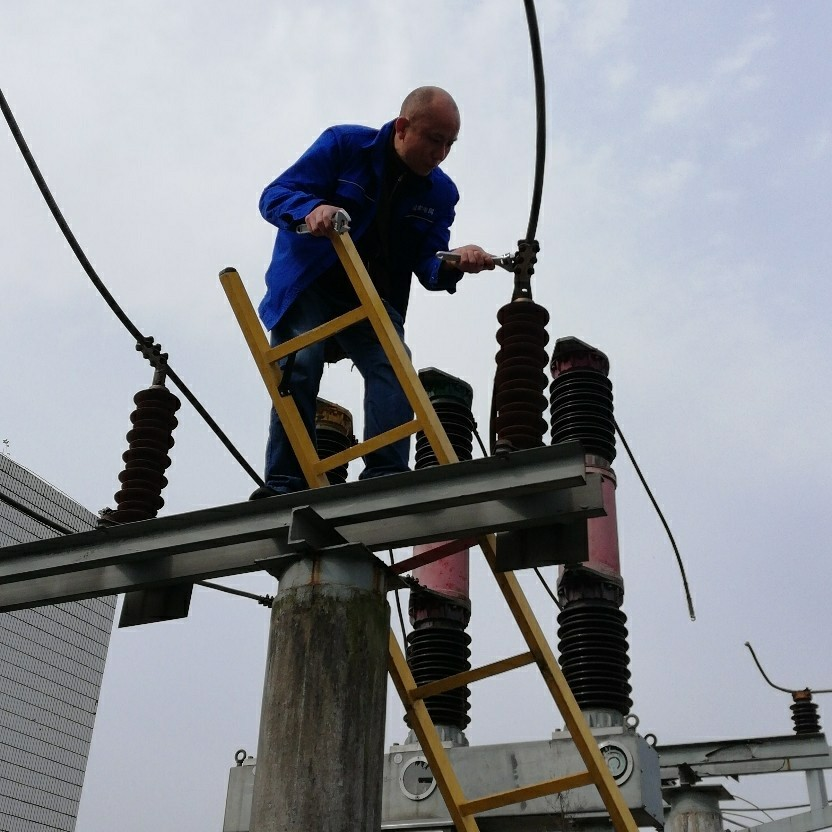no-hat: (392, 81, 465, 173)
